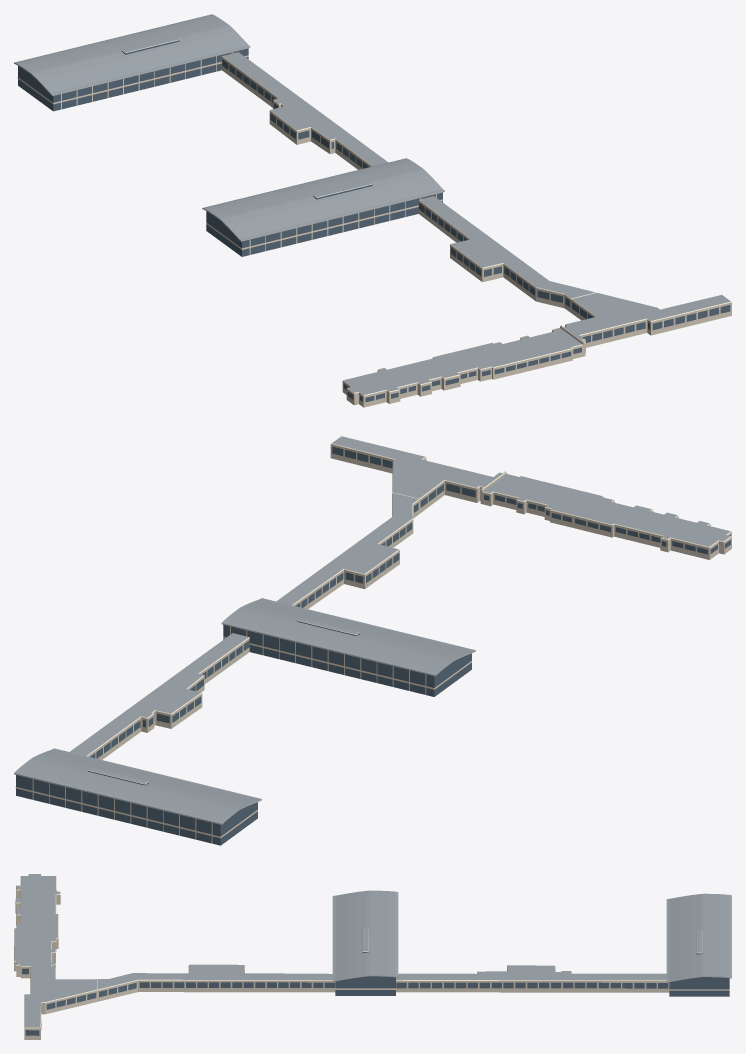
The model's file is clt-concourse-a.glb.
3 views of the same model, one above another, from view 1: azimuth 30°, elevation 25°; view 2: azimuth 150°, elevation 25°; view 3: azimuth 270°, elevation 25° (orthographic). The views are drawn at different scales.
Parts seen in each view (by area): view 1: Charlotte Douglas International Airport Concourse A; view 2: Charlotte Douglas International Airport Concourse A; view 3: Charlotte Douglas International Airport Concourse A.
Part boxes in pixels (bbox=[...]): Charlotte Douglas International Airport Concourse A: bbox=[14, 14, 731, 407]; Charlotte Douglas International Airport Concourse A: bbox=[14, 436, 731, 845]; Charlotte Douglas International Airport Concourse A: bbox=[14, 874, 731, 1039].
Bounding box in the file's own units: 290 × 18.8 × 565.
